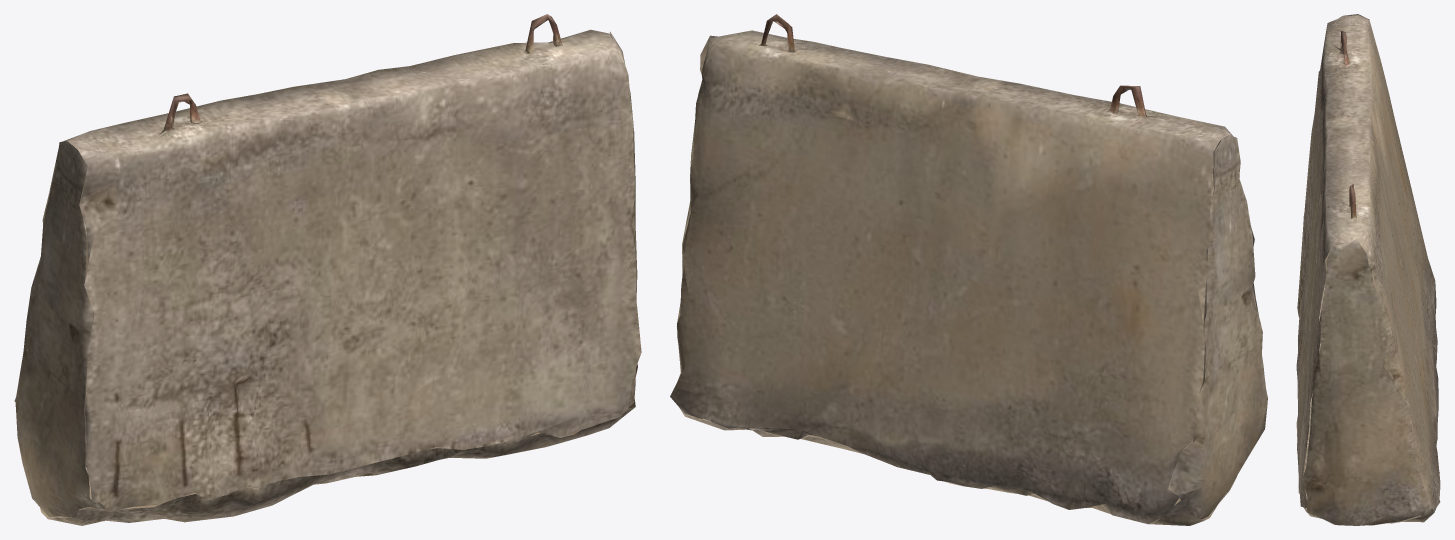
The model's file is road_barrier_2.glb.
3 views of the same model, side by side, from view 1: azimuth 30°, elevation 25°; view 2: azimuth 150°, elevation 25°; view 3: azimuth 270°, elevation 25° (orthographic). The views are drawn at different scales.
Parts seen in each view (by area): view 1: road_barrier_2; view 2: road_barrier_2; view 3: road_barrier_2.
Boxes of the visible parts, x1=… form: road_barrier_2: x1=14, y1=14, x2=641, y2=525; road_barrier_2: x1=670, y1=14, x2=1267, y2=525; road_barrier_2: x1=1296, y1=14, x2=1440, y2=525.
Size of the model in its own units: 1.16 by 0.82 by 0.3266.
1 material, 1 textured.
